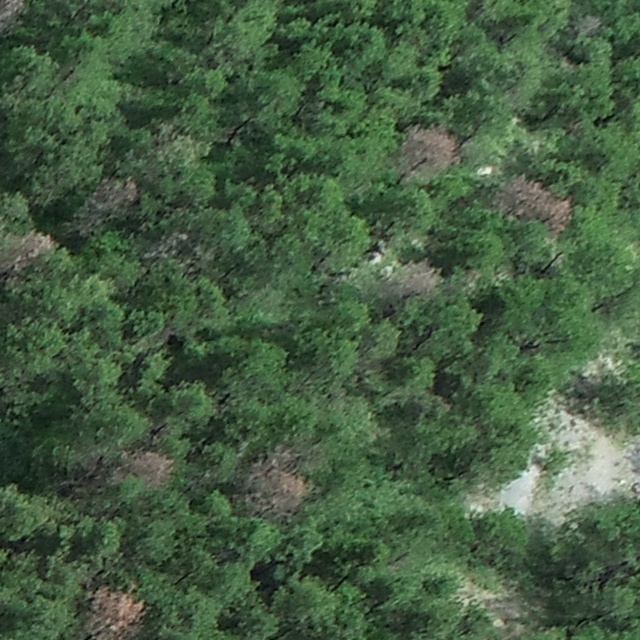unhealthy: (245, 444, 311, 520), (495, 172, 573, 232), (396, 122, 459, 181), (85, 584, 147, 639), (5, 226, 55, 269), (390, 259, 442, 296), (129, 448, 175, 487), (92, 175, 140, 208), (145, 228, 190, 260), (0, 0, 29, 38), (576, 13, 604, 36)
